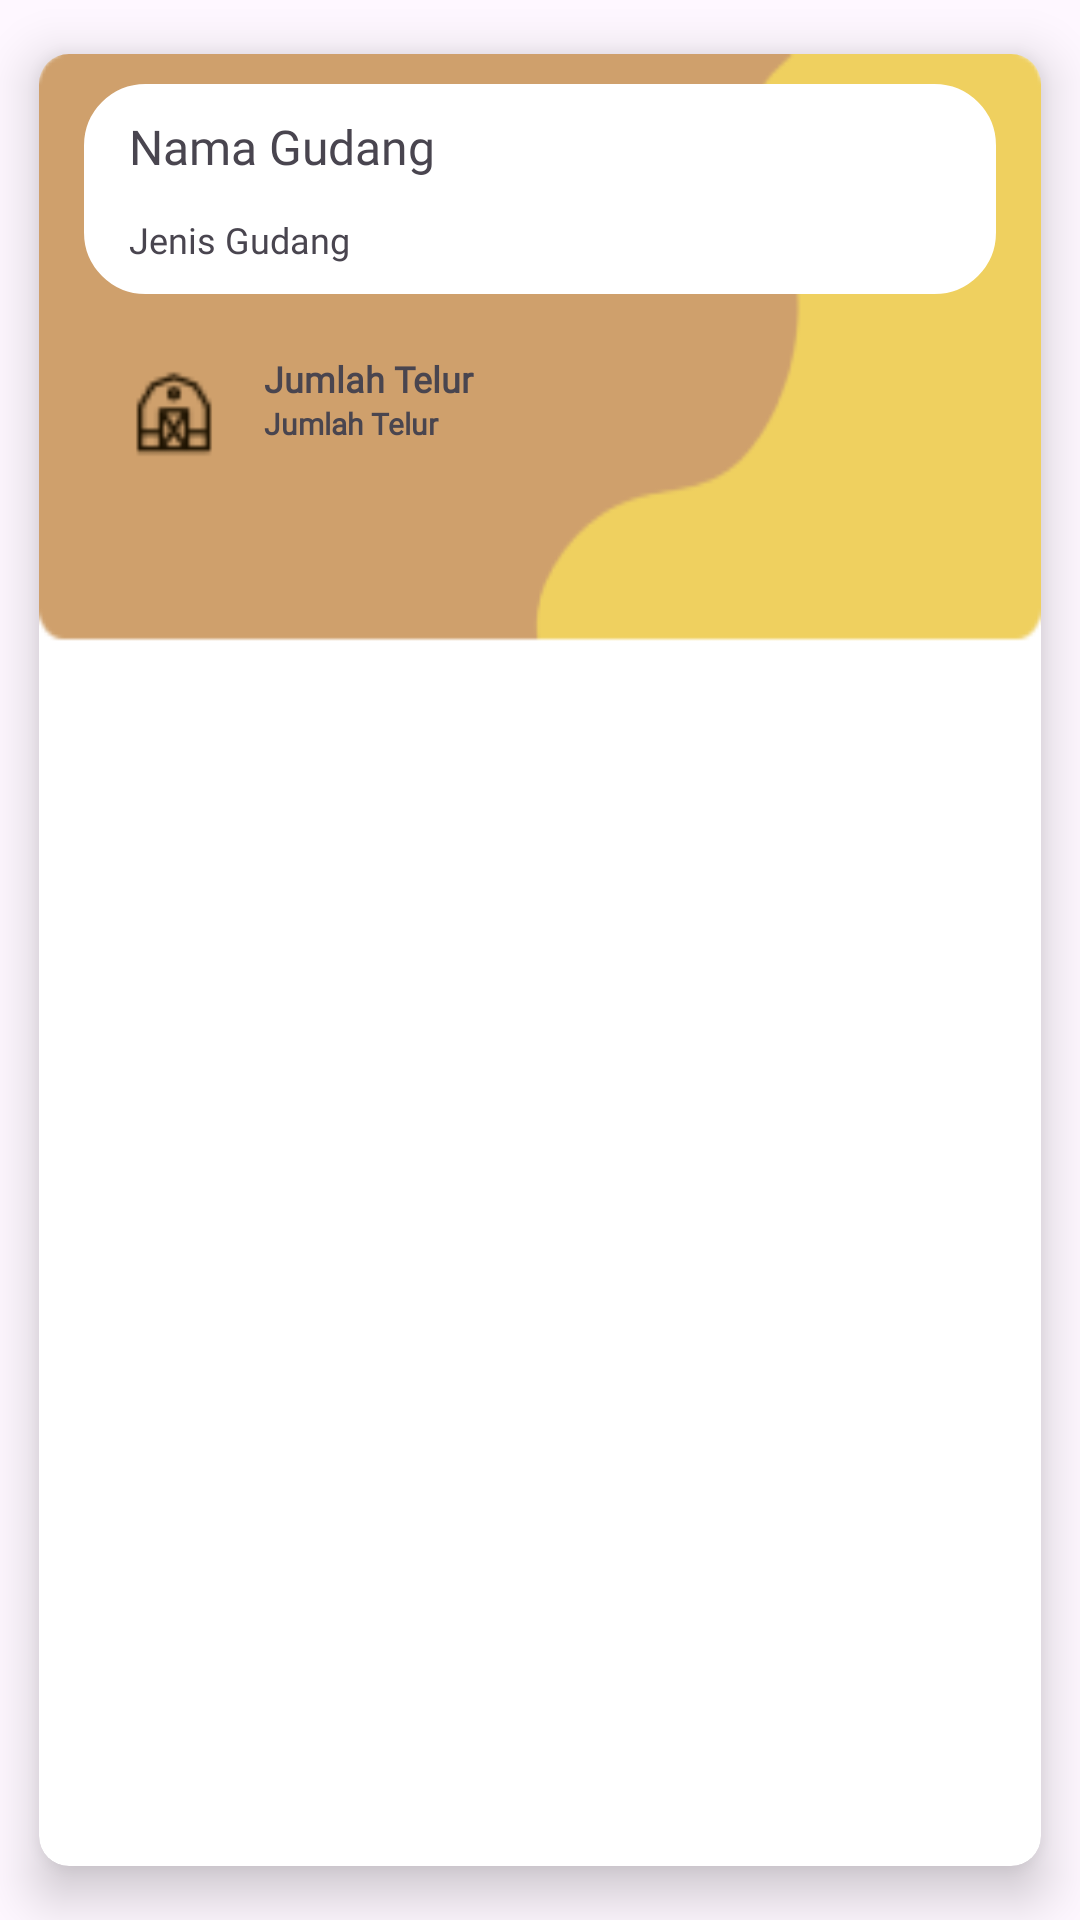

Screen size 1080×1920. Icon name, then its center in pixels as (x=x, y=y):
farm: (x=174, y=413)
